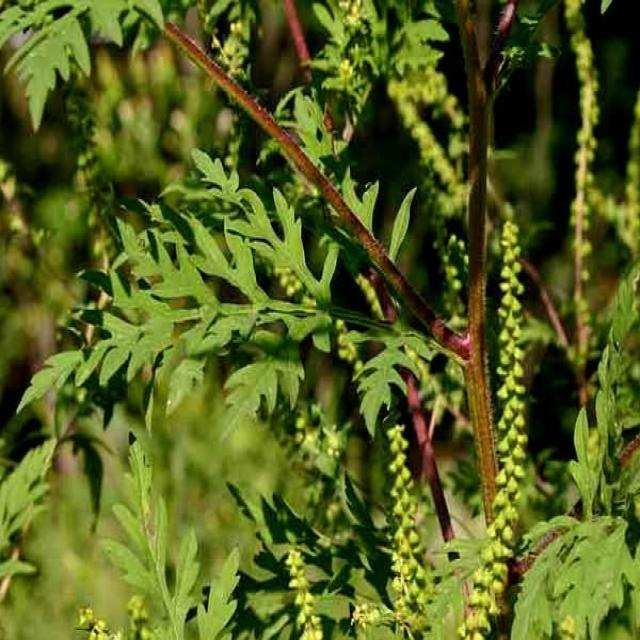ambrosia: (120, 181, 590, 595), (473, 208, 556, 630)
